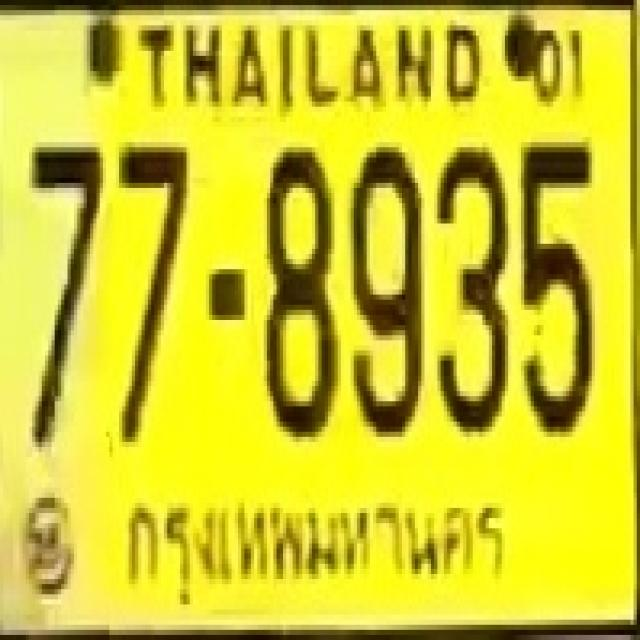3: (432, 145, 507, 429)
5: (518, 137, 592, 432)
7: (29, 140, 100, 439), (116, 142, 186, 437), (29, 142, 100, 361)
8: (264, 142, 334, 432)
9: (348, 142, 422, 432)
BKK: (120, 474, 532, 622)
